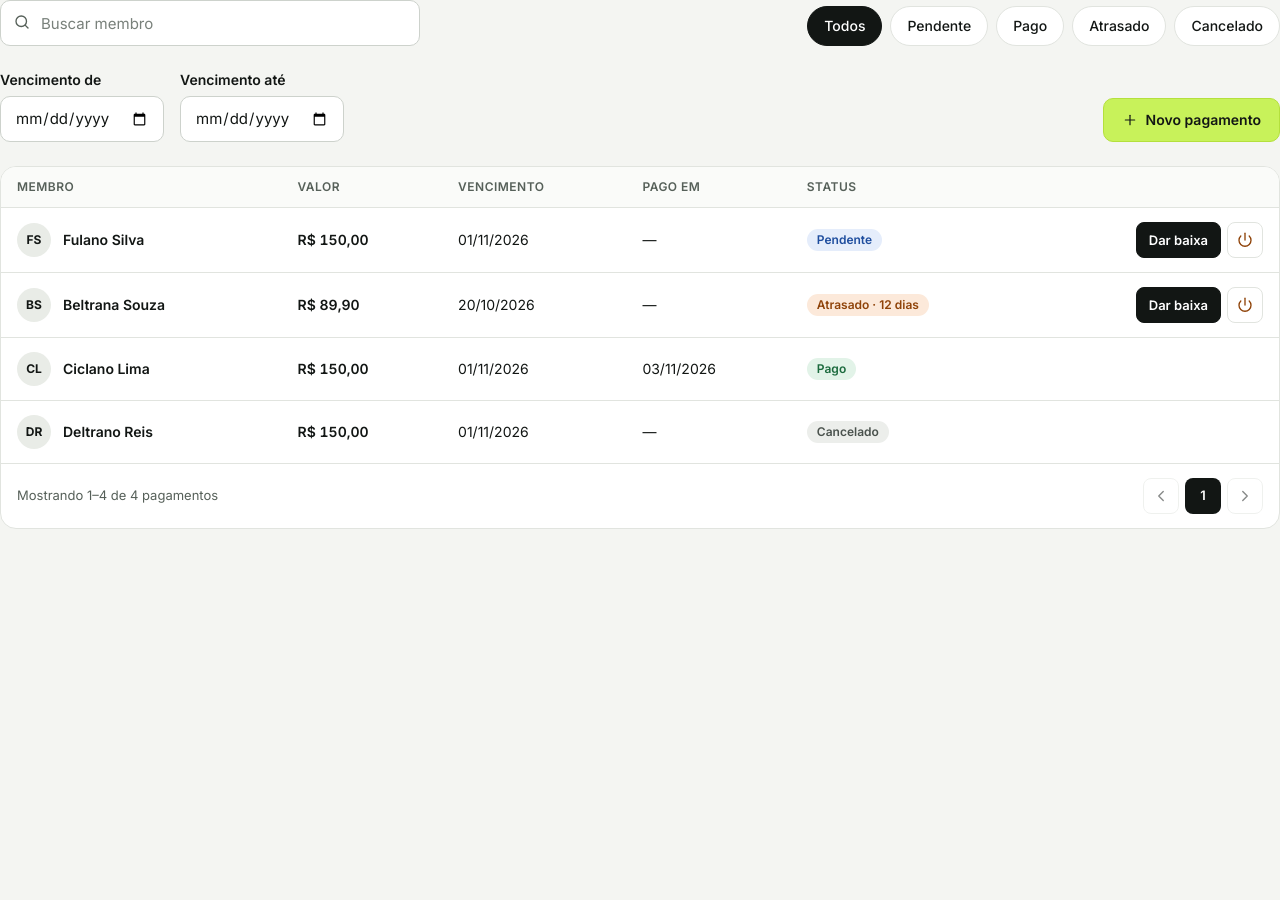
it: TelaPagamentos › registra o pagamento com a data informada
This screenshot has width=1280, height=900.
expect the text "Fulano Silva" is shown: met, box [63,230,144,250]
Step 1. Click the button with aria-label "Registrar pagamento de Fulano Silva" → (1178,240), box [1136,222,1221,258]
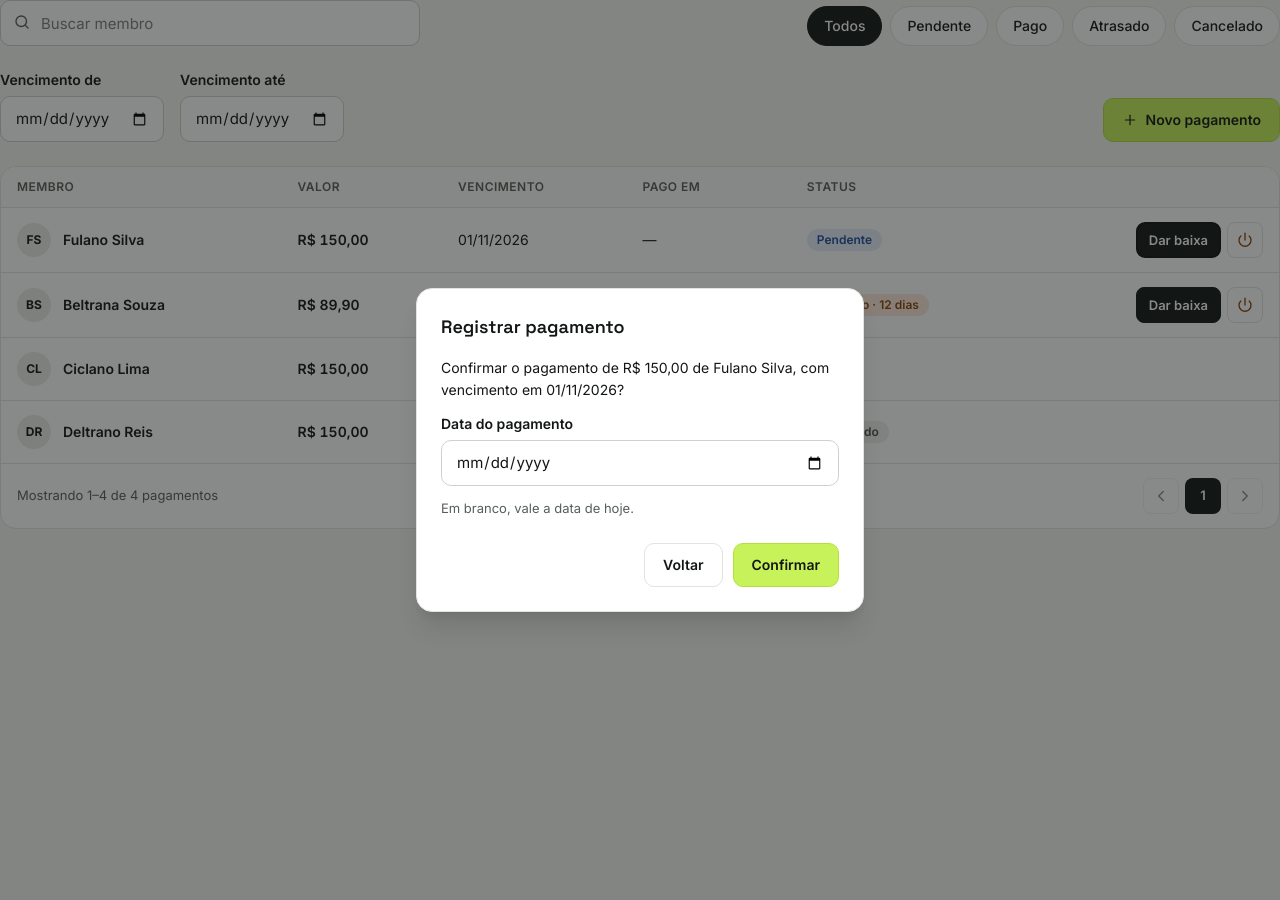
Step 2. Type "2026-11-05" into the date field labelled "Data do pagamento" → (640,463), box [441,440,839,486]
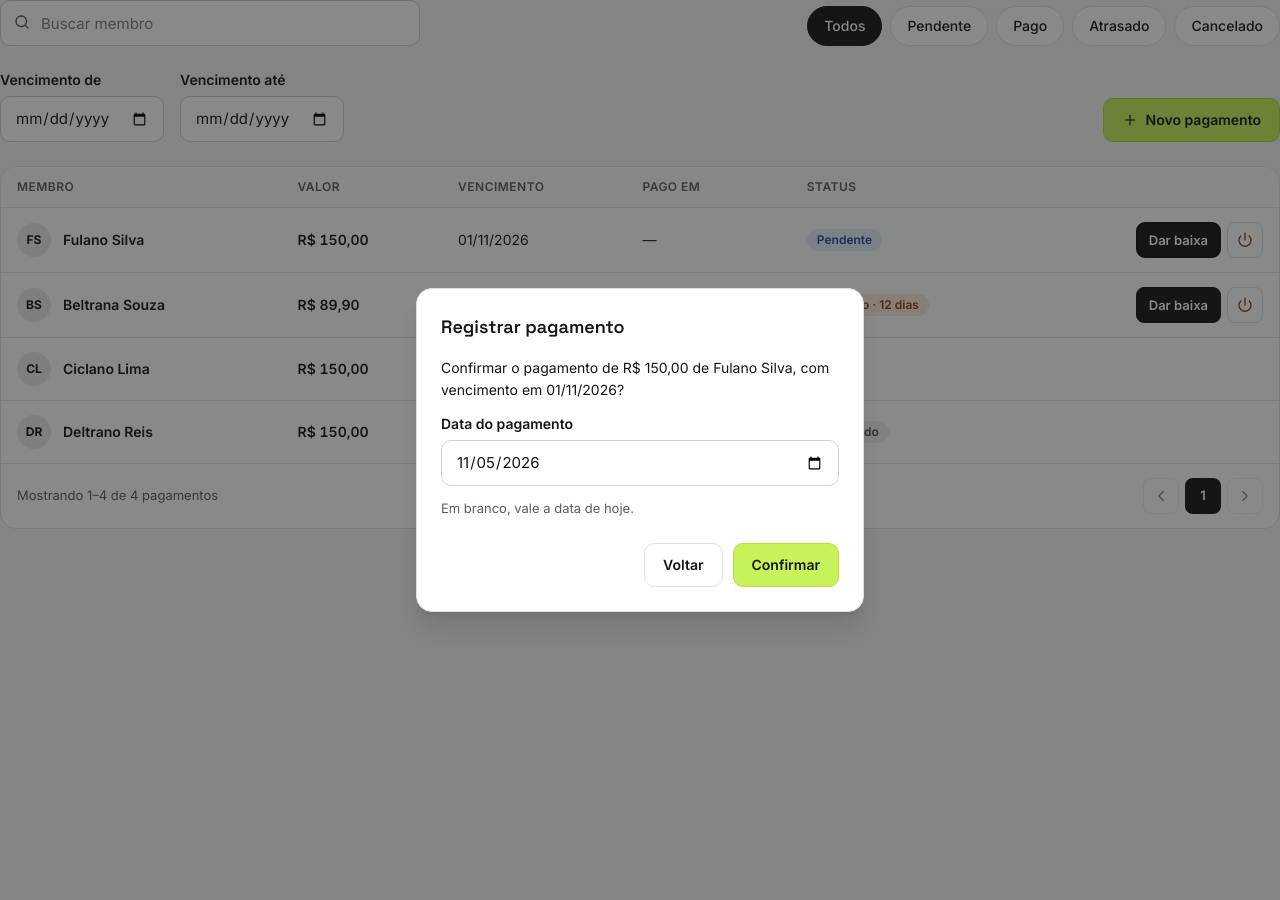
Step 3. Click the button "Confirmar" → (786,565), box [732,543,839,587]
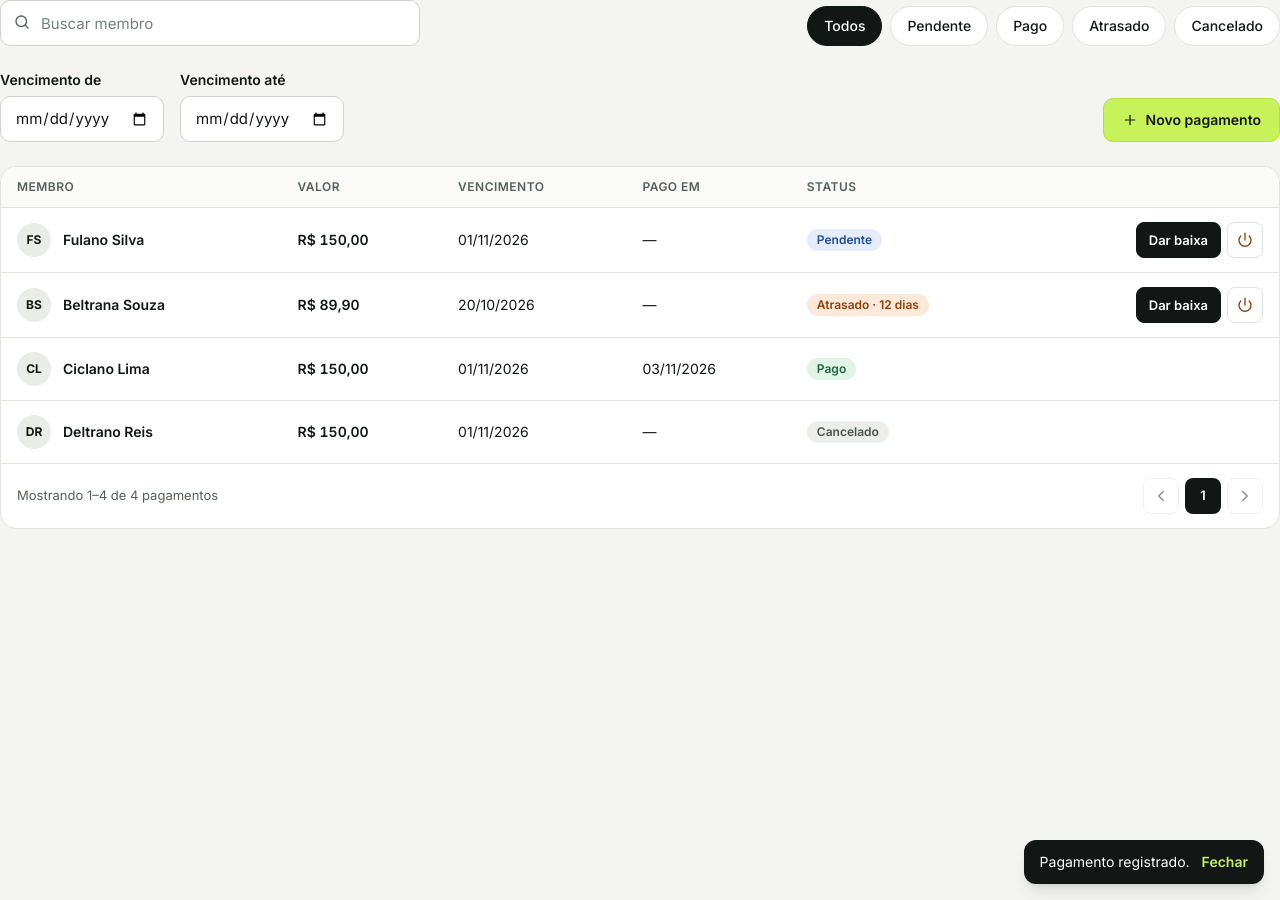
expect the text "Pagamento registrado." is shown: met, box [1040,852,1190,872]
